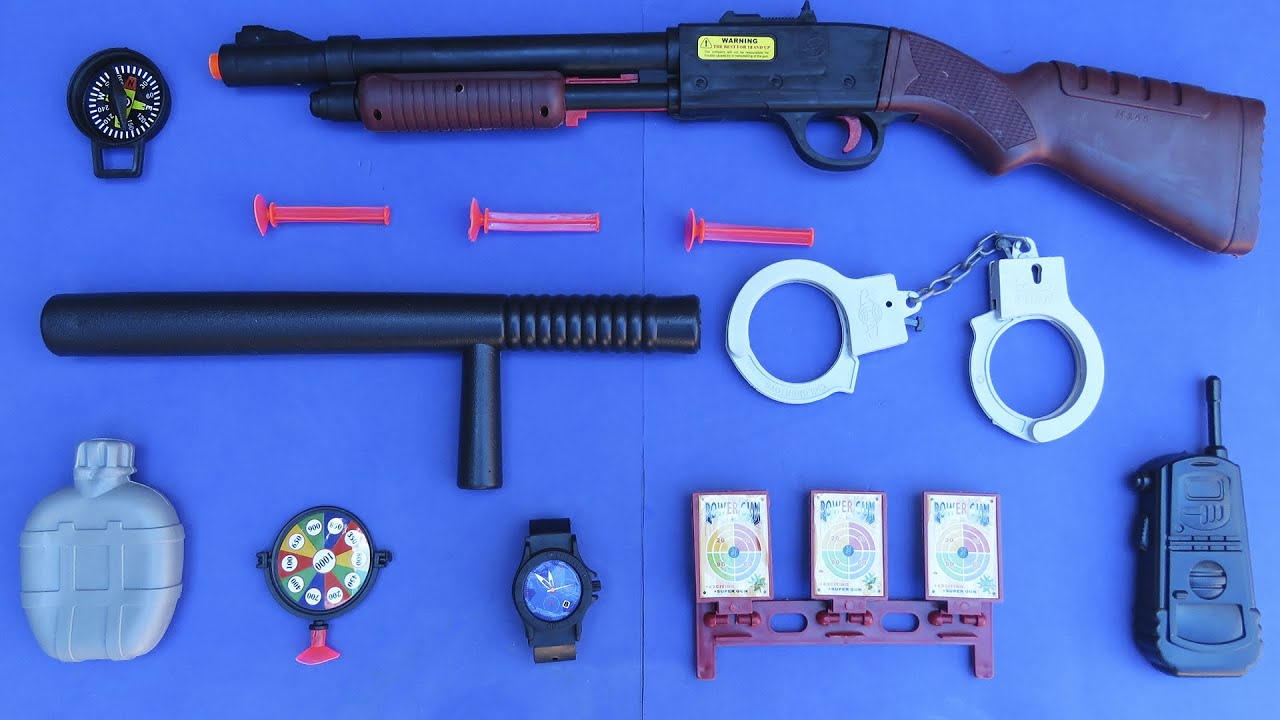Arma Falsa: (206, 9, 1271, 264)
